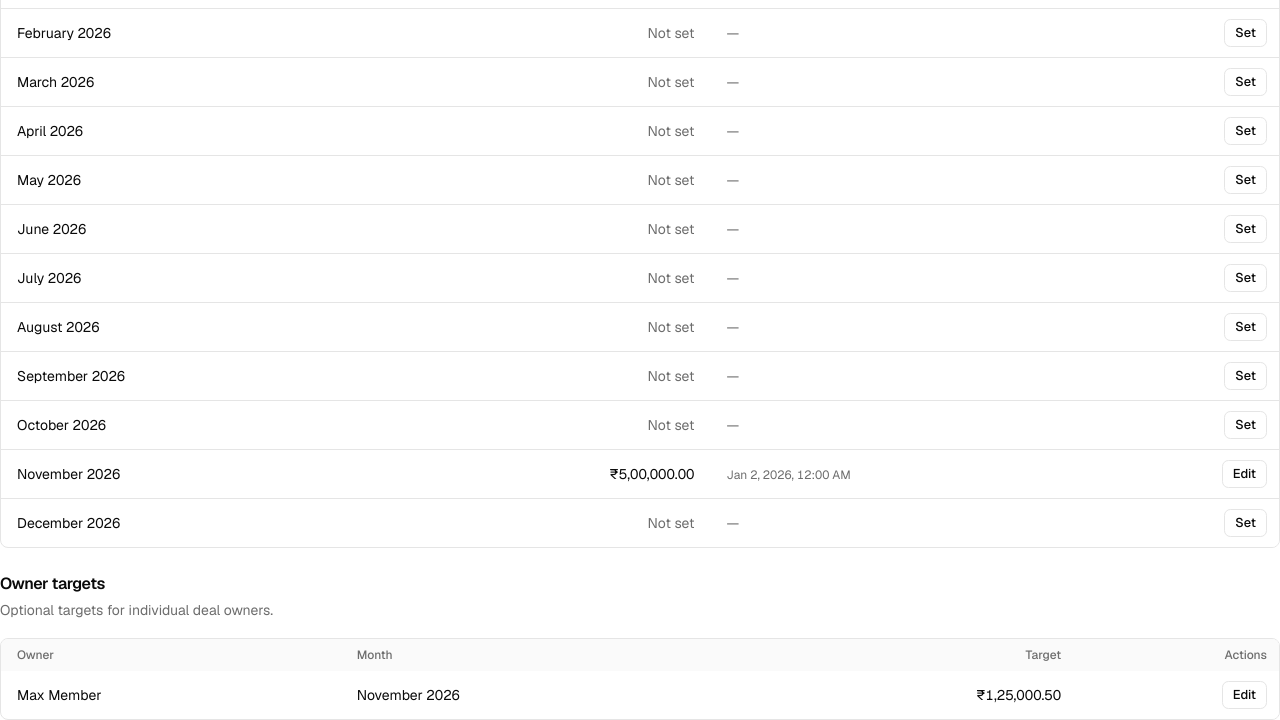
Scenario: Sales targets page › updates an existing target and says it will be replaced
(page scrolled)
Click the button "Edit" in the row of "₹5,00,000.00".
click(1244, 474)  # box [1222,460,1267,488]
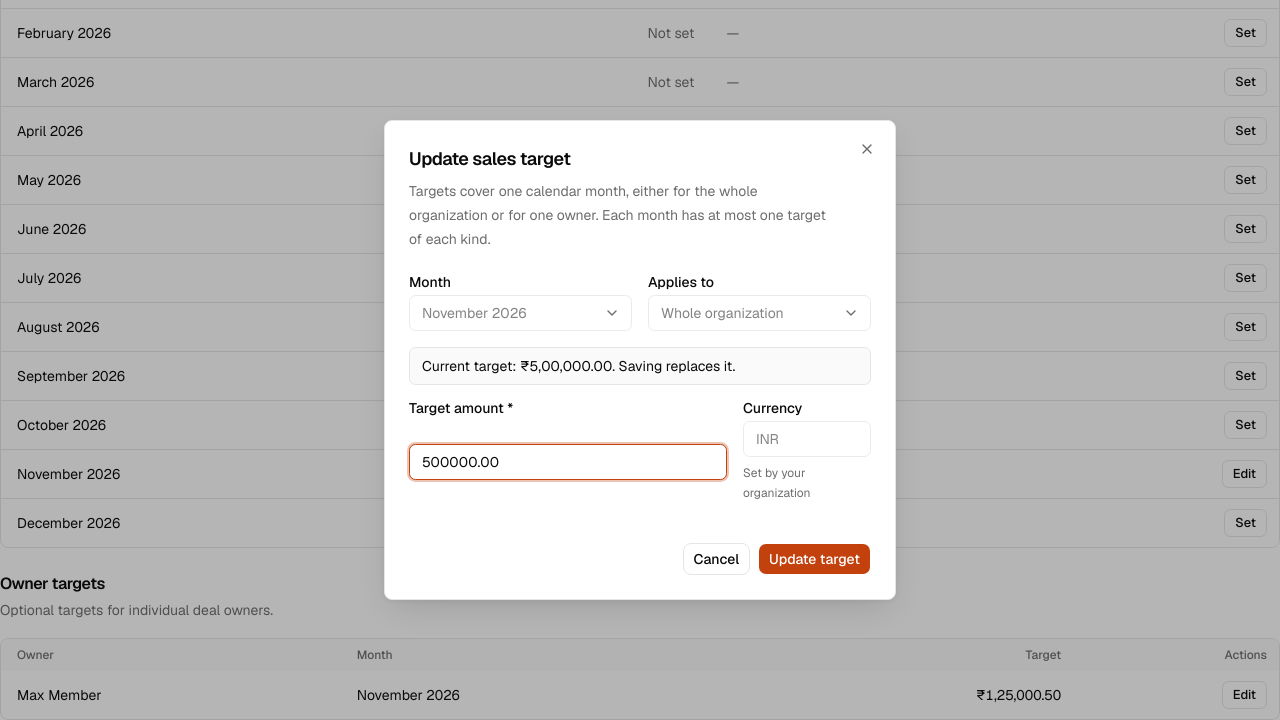
Expected: the text "Current target: ₹5,00,000.00. Saving replaces it." is shown, [409,347,871,385]
Expected: the field labelled "Target amount *" holds "500000.00"
Type "600000" into the field labelled "Target amount *".
click(568, 462); type("600000")  # box [409,444,727,480]
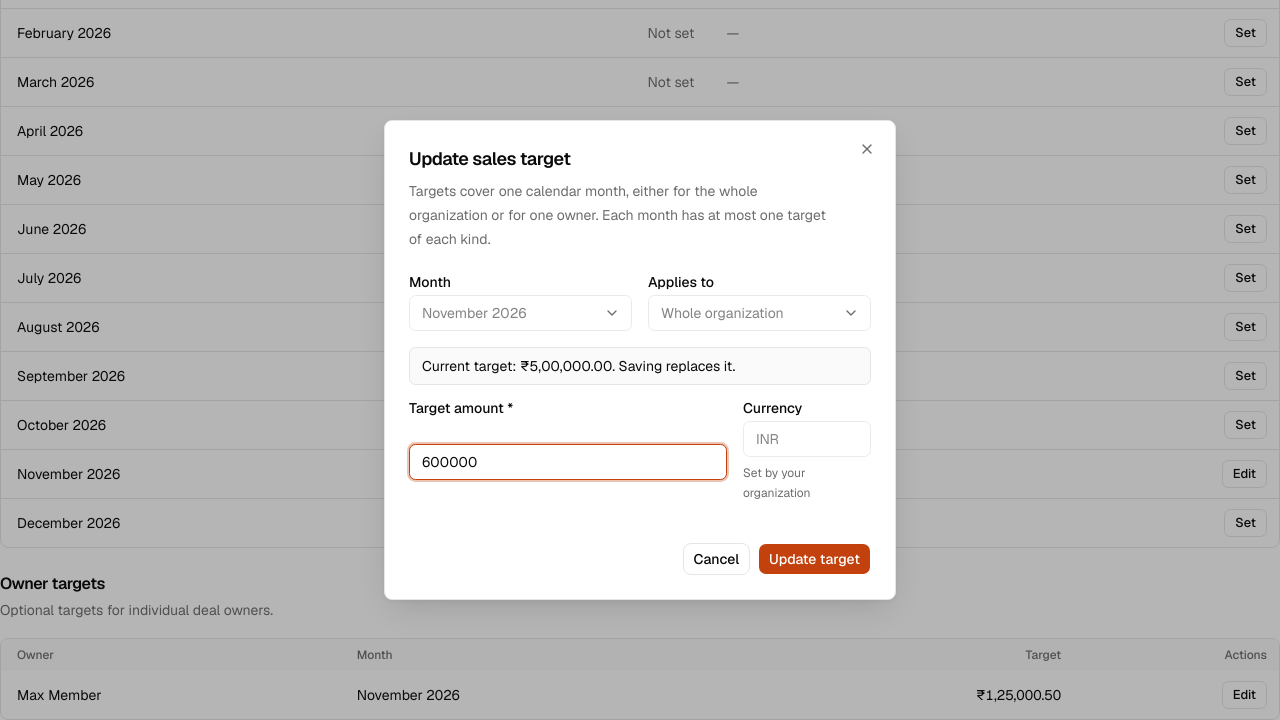
Click the button "Update target".
click(815, 559)  # box [758,543,871,575]
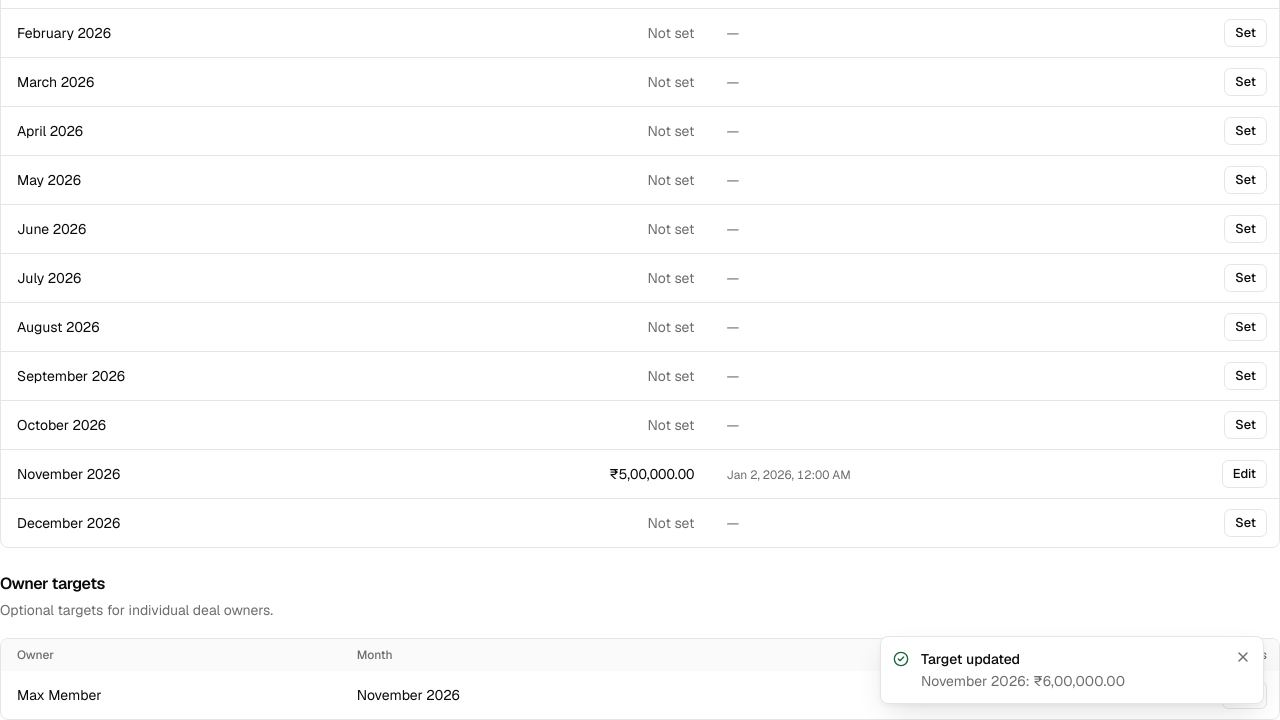
Expected: the heading "Target updated" is shown, [921,650,1020,668]
